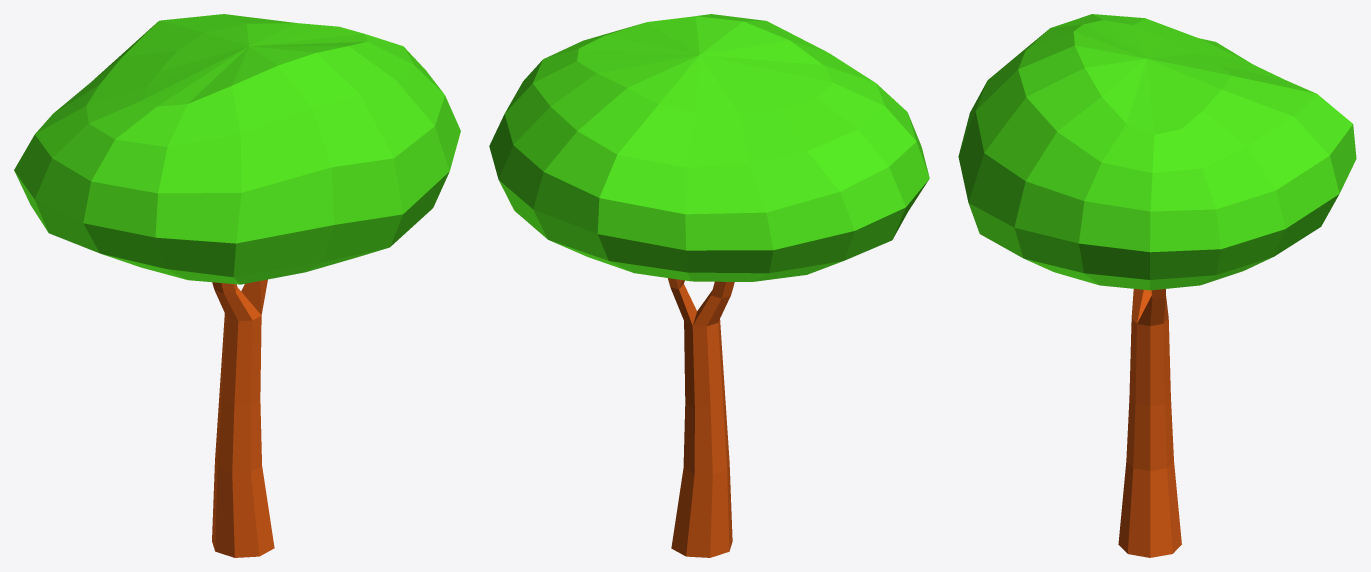
Rendered from Laubbaum_01_rdy.fbx.
3 views of the same model, side by side, from view 1: azimuth 30°, elevation 25°; view 2: azimuth 150°, elevation 25°; view 3: azimuth 270°, elevation 25° (orthographic). The views are drawn at different scales.
Parts seen in each view (by area): view 1: Laubbaum_01; view 2: Laubbaum_01; view 3: Laubbaum_01.
Part boxes in pixels (bbox=[...]): Laubbaum_01: bbox=[14, 14, 460, 557]; Laubbaum_01: bbox=[489, 14, 929, 557]; Laubbaum_01: bbox=[958, 14, 1356, 557].
Bounding box in the file's own units: 1097 × 1317 × 956.
